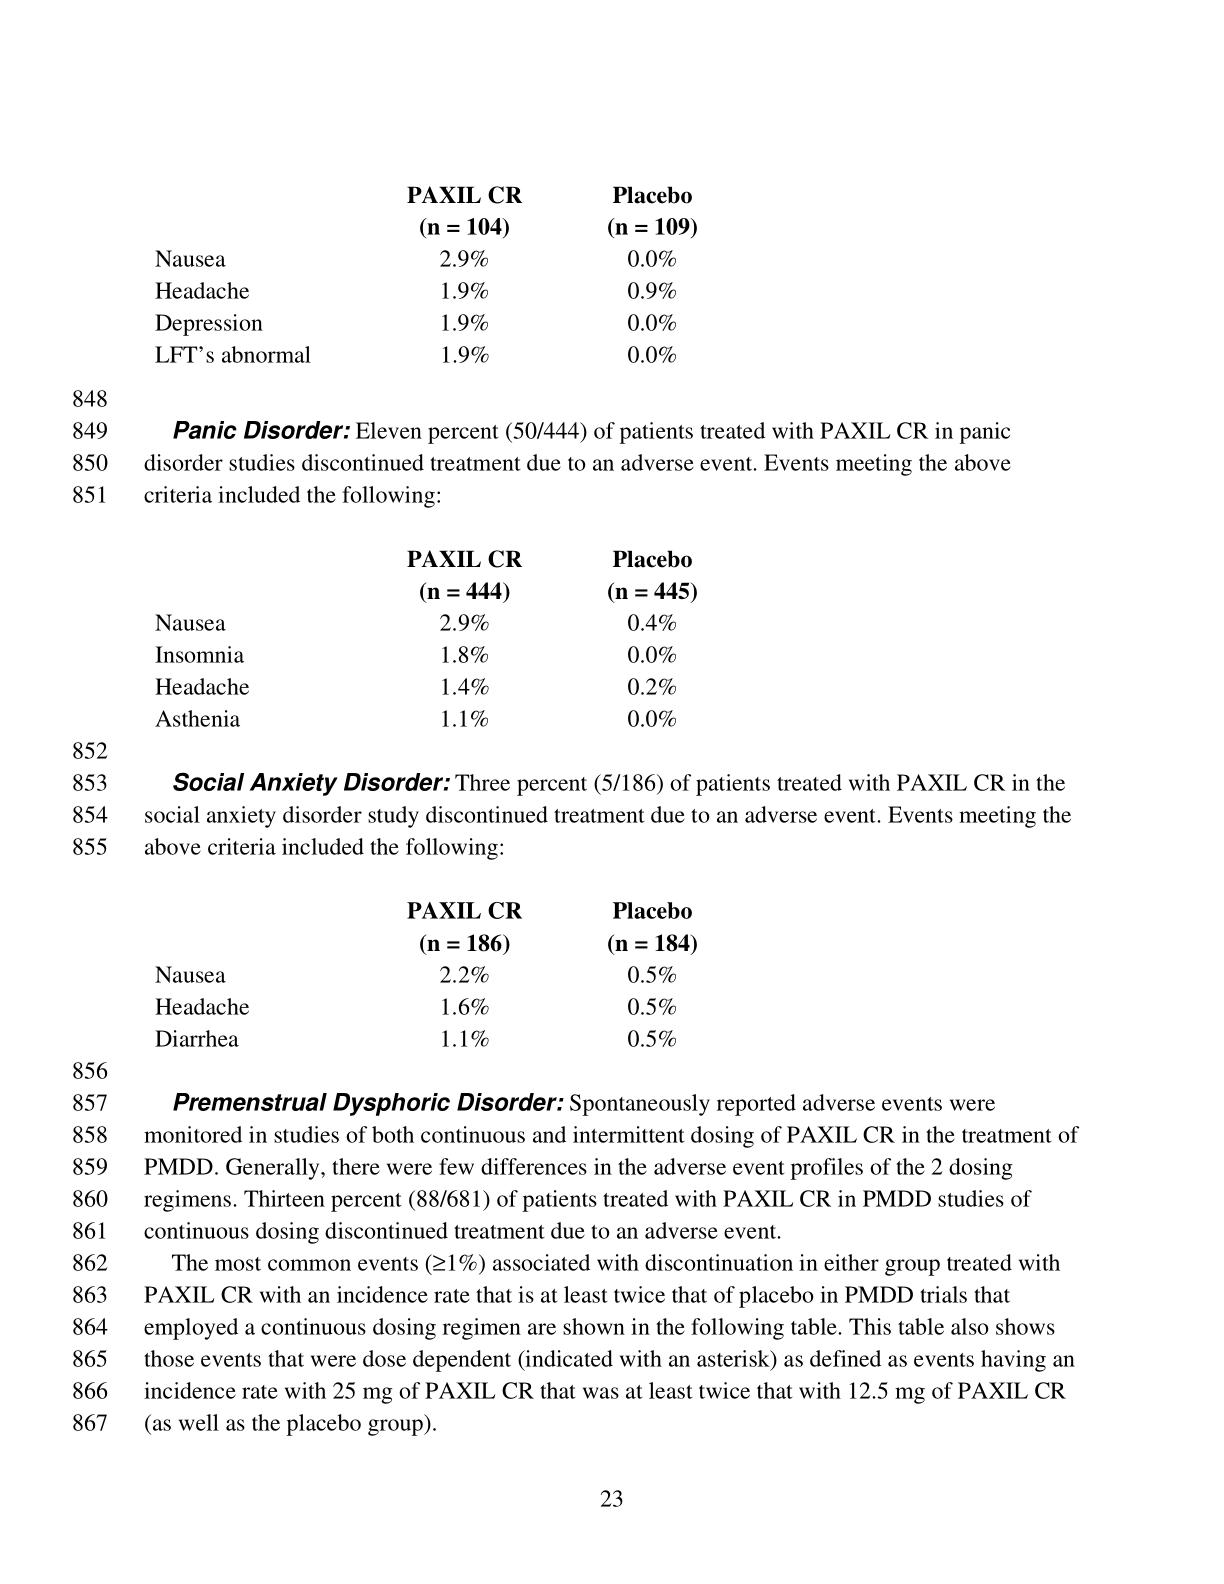nolines: (152, 180, 698, 365), (152, 546, 697, 732), (154, 900, 698, 1050)
